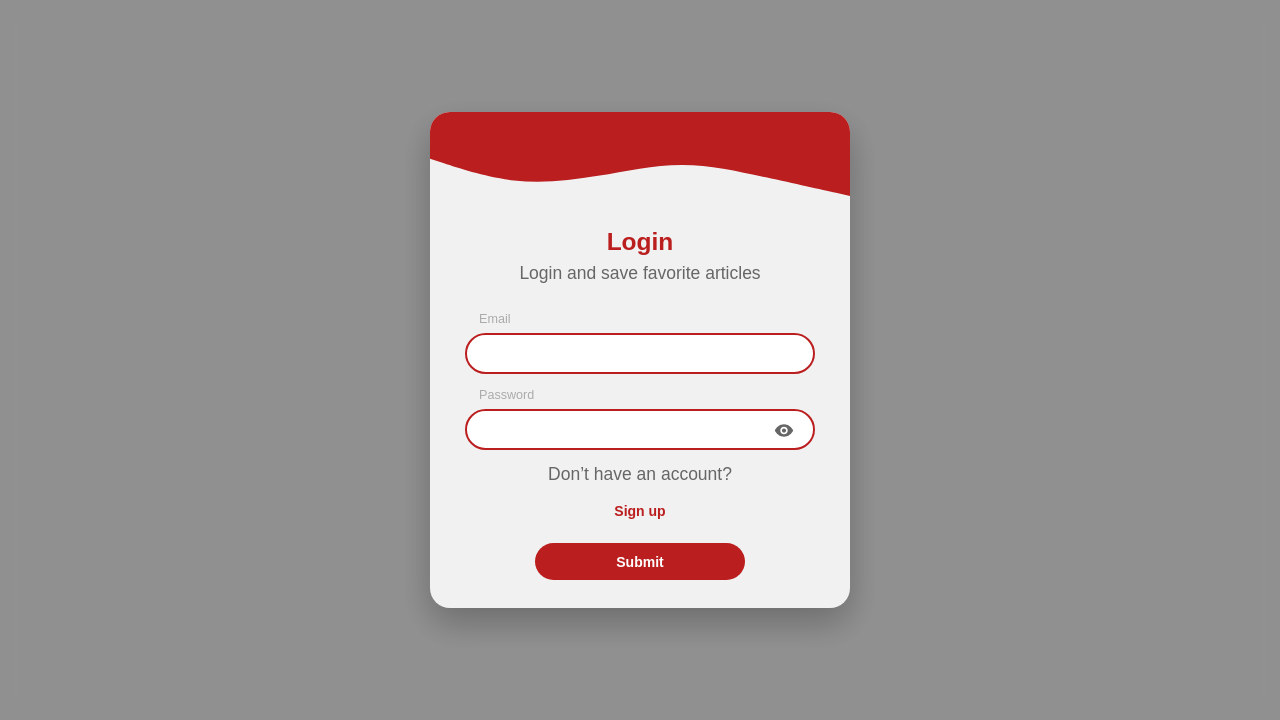
Scenario: Login/Register Modal › shows error for invalid password format
Type "some@gmail.com" into the field labelled "Email". click: (640, 354)
box: [465,333,815,374]
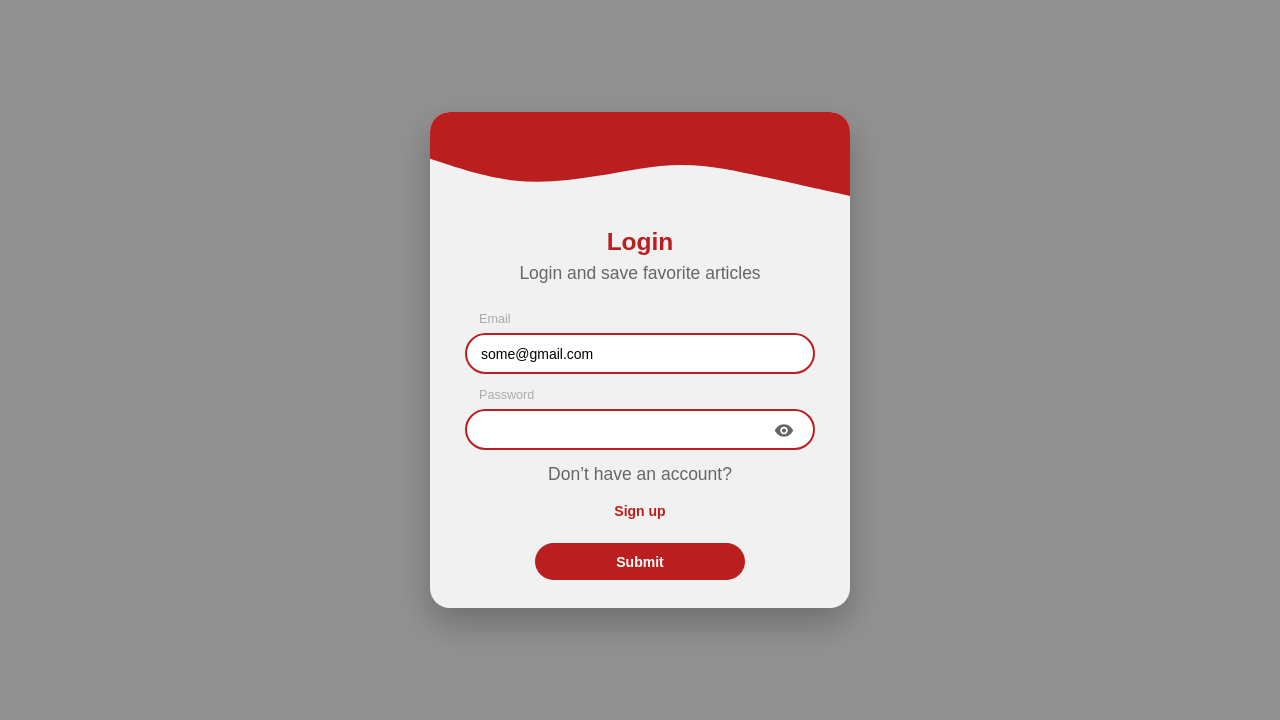
Type "short" into the password field labelled "Password". click: (640, 430)
box: [465,409,815,450]
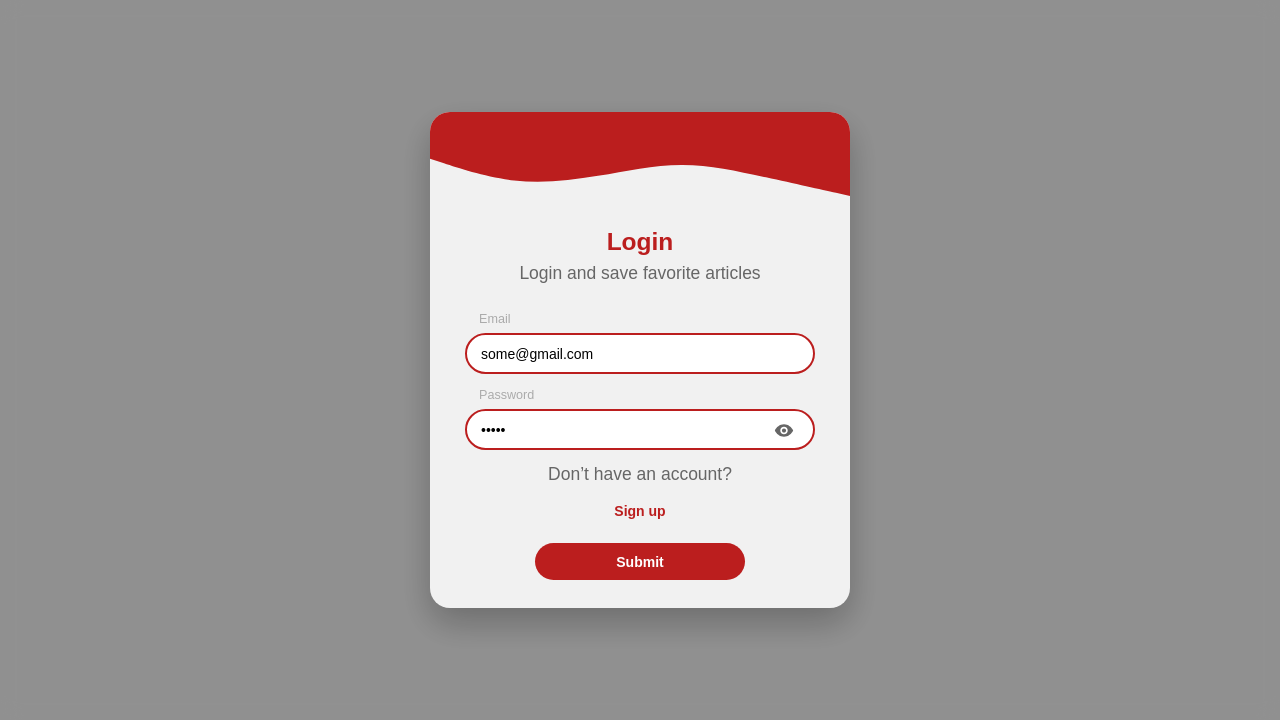
Click the button "Submit". click: (640, 562)
box: [535,543,745,580]
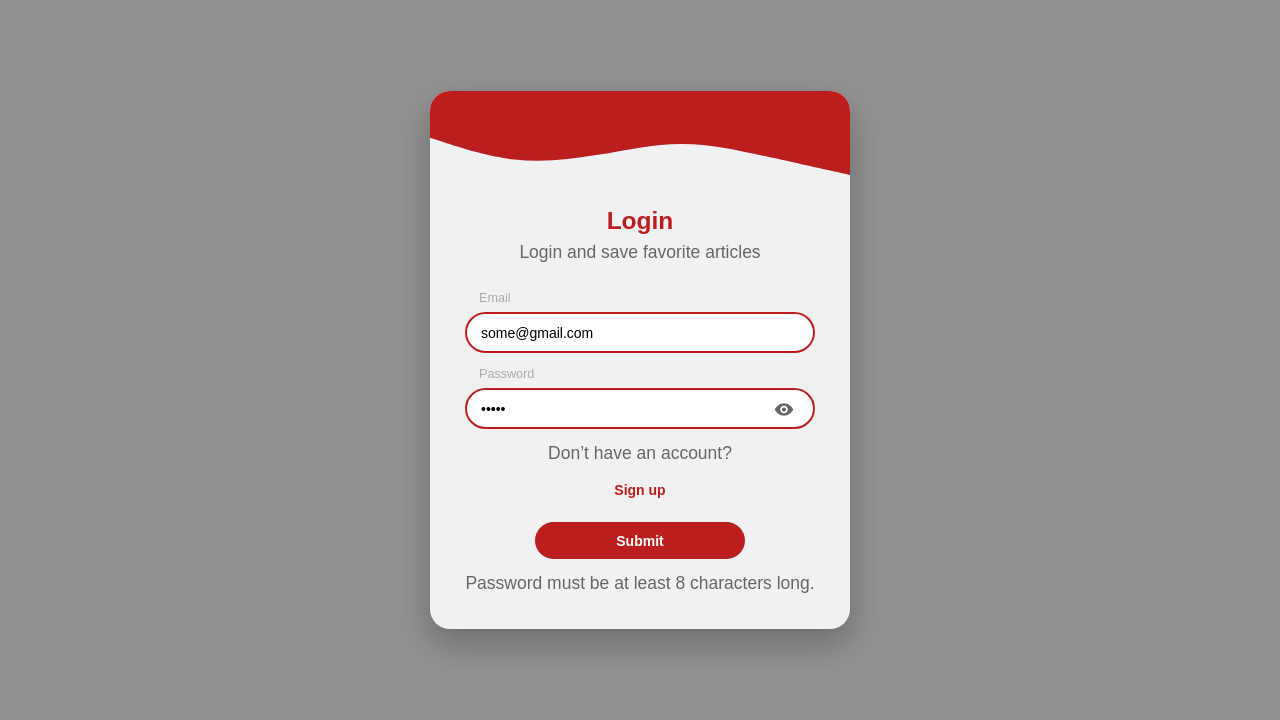
expect the text "Password must be at least 8 characters long." is shown: met, box [458,573,822,594]
